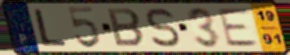3: (186, 6, 222, 49)
5: (66, 5, 103, 50)
B: (105, 7, 147, 49)
E: (216, 7, 262, 49)
L: (32, 8, 69, 48)
S: (145, 7, 182, 49)
